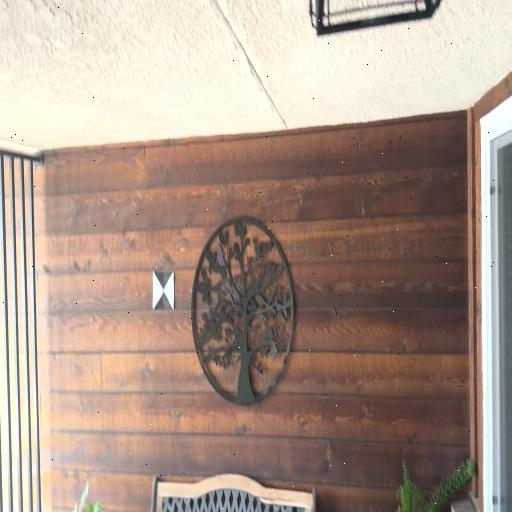target: (152, 270, 174, 311)
